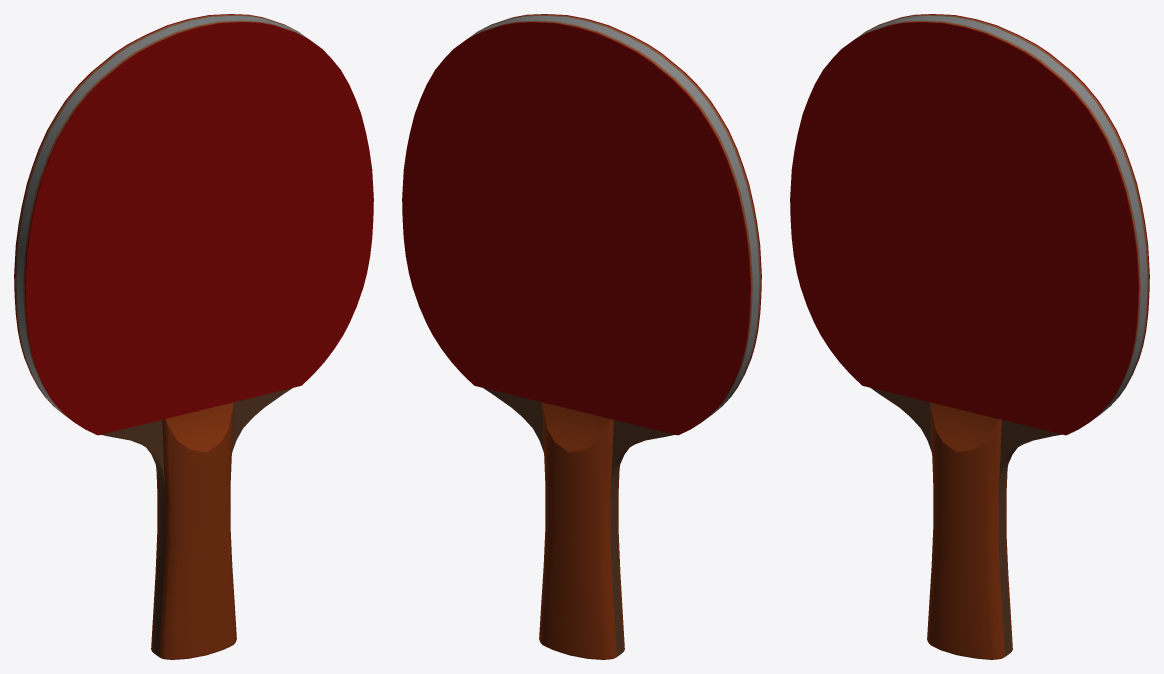
3 views of the same model, side by side, from view 1: azimuth 30°, elevation 25°; view 2: azimuth 150°, elevation 25°; view 3: azimuth 330°, elevation 25° (orthographic).
Visible parts, largest first — view 1: PaddleObj (×5); view 2: PaddleObj (×5); view 3: PaddleObj (×5).
Part boxes in pixels (<box>): PaddleObj (×5): <box>14,14,373,659</box>; PaddleObj (×5): <box>402,14,761,659</box>; PaddleObj (×5): <box>790,14,1149,659</box>.
Bounding box in the file's own units: 5.84 × 9.99 × 0.7656.
